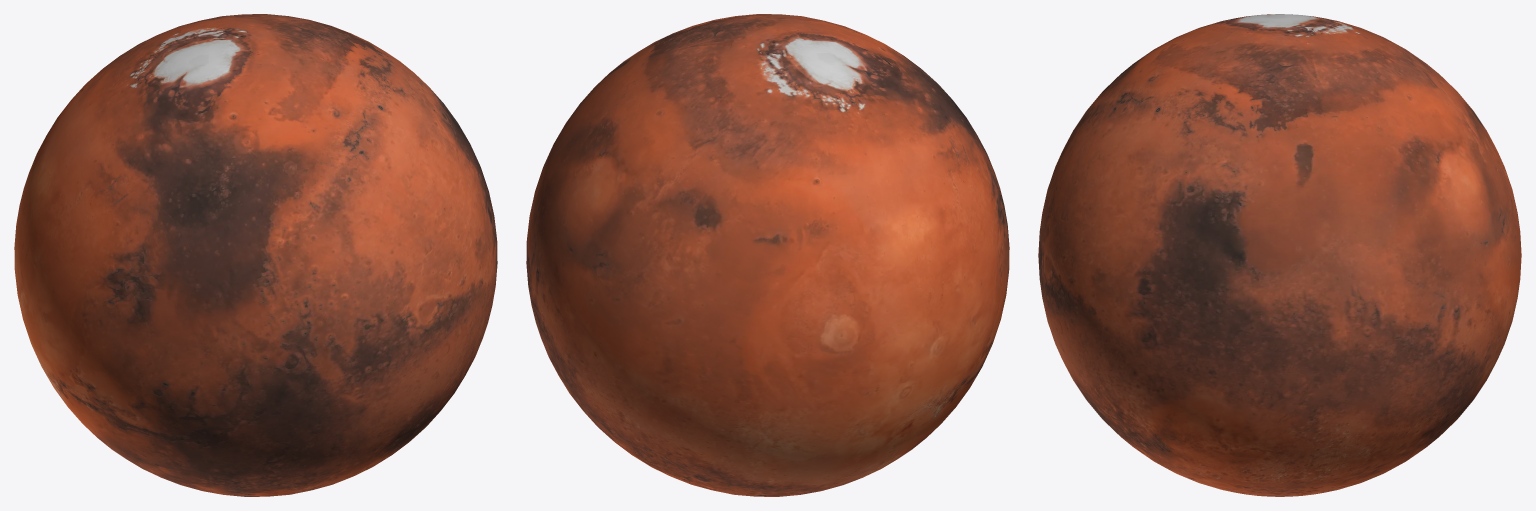
File: mars.glb
3 renders of one model, left to right at view 1: azimuth 30°, elevation 25°; view 2: azimuth 150°, elevation 25°; view 3: azimuth 270°, elevation 25°, orthographic.
Parts seen in each view (by area): view 1: mars; view 2: mars; view 3: mars.
Boxes of the visible parts, x1,y1,x2,y2 form: mars: [14, 14, 497, 496]; mars: [526, 14, 1009, 496]; mars: [1038, 14, 1521, 496].
Size of the model in its own units: 99.86 by 99.94 by 100.
1 material, 1 textured.
